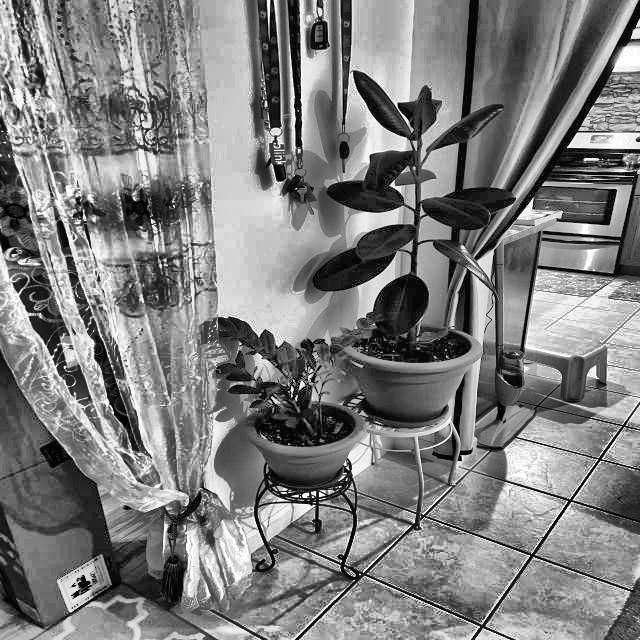plants: (370, 120, 470, 350), (240, 312, 342, 435)
